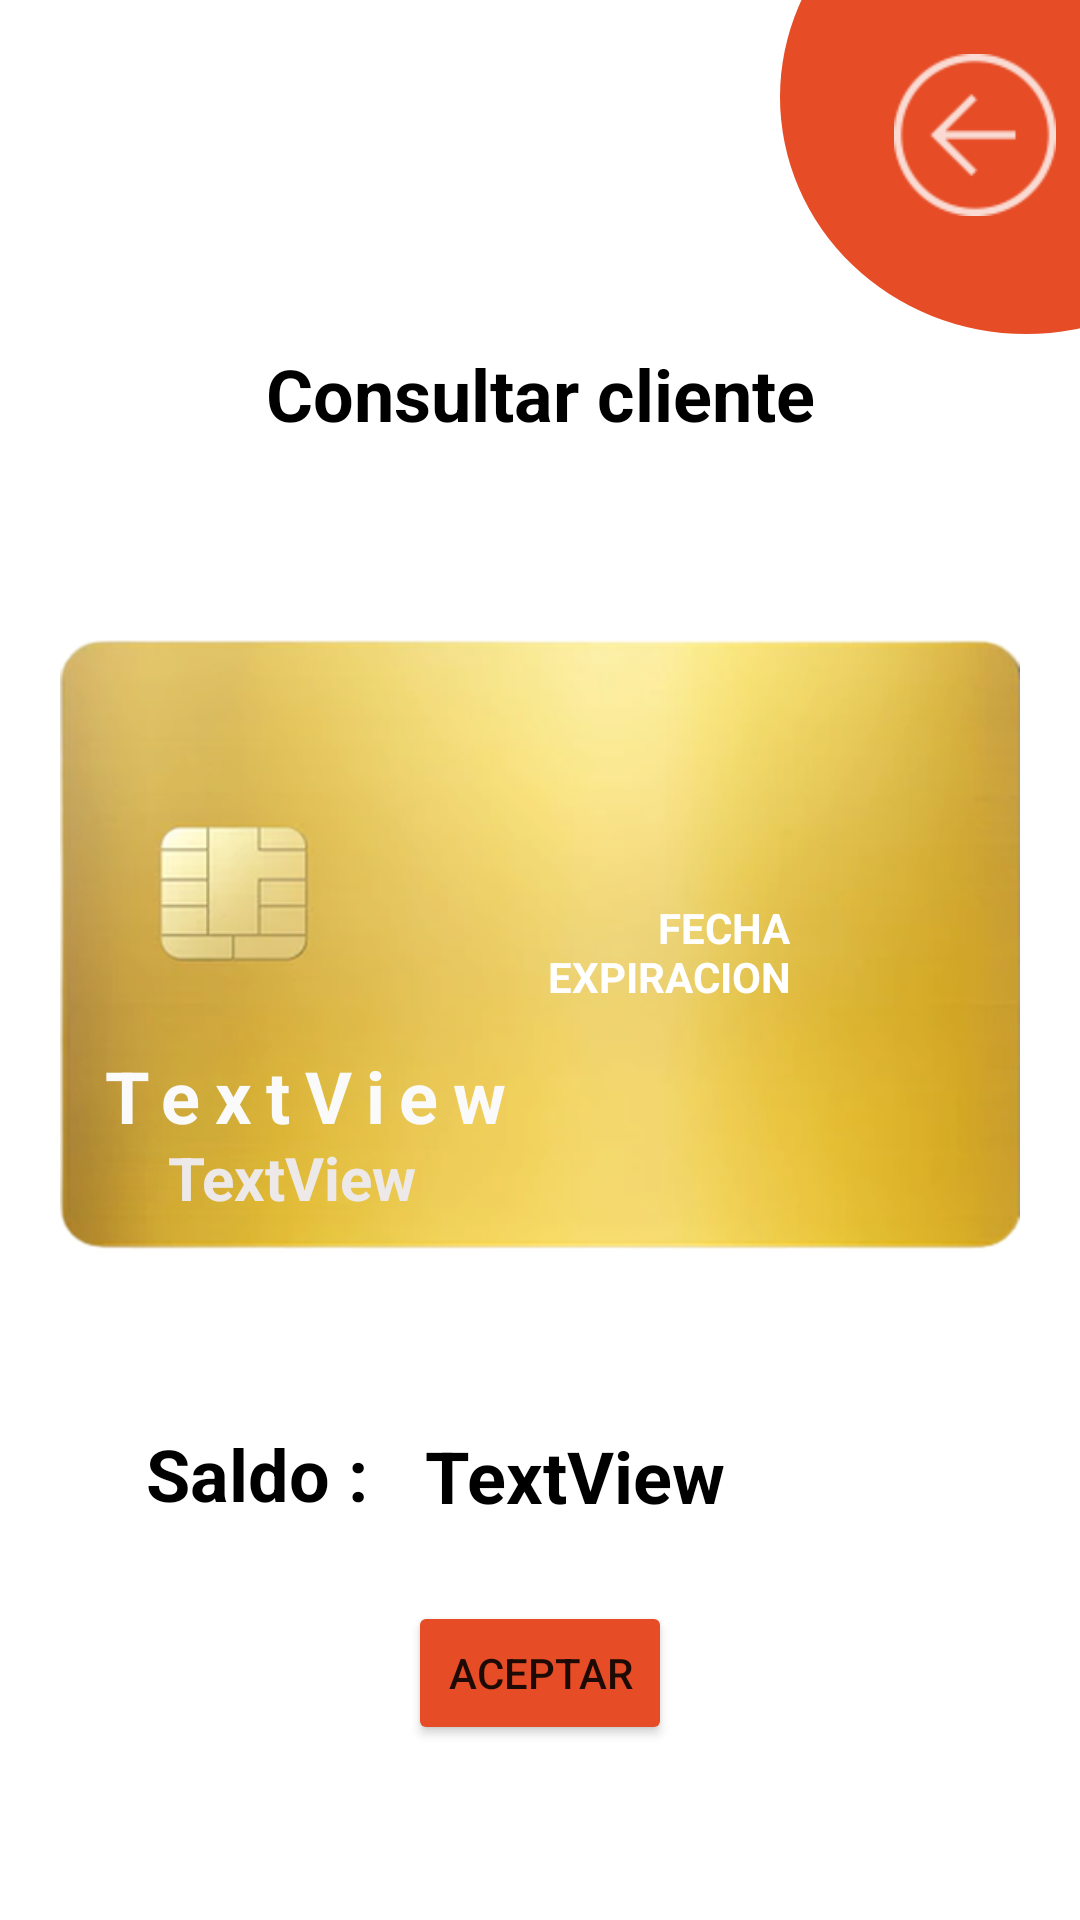

Locate icon controls on the screen. Image size 1080×1920, boxes as [left=x1, top=y1, right=x2, bottom=y2].
arrowback: [left=894, top=54, right=1056, bottom=216]
